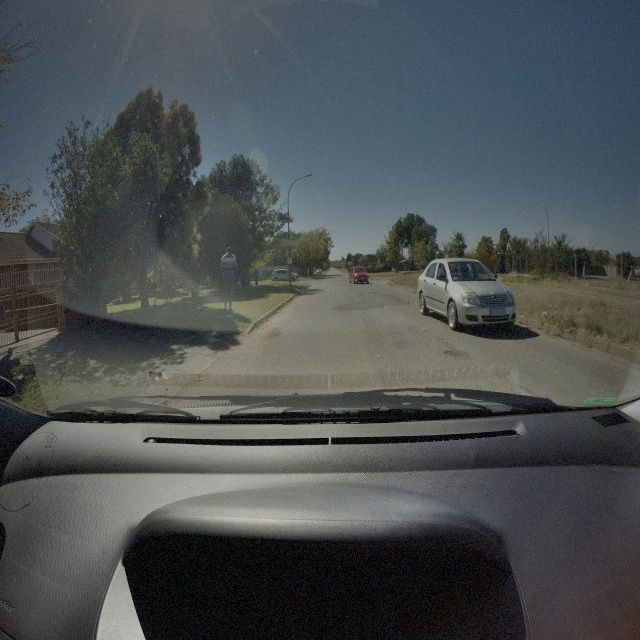pothole: (445, 349, 467, 360)
